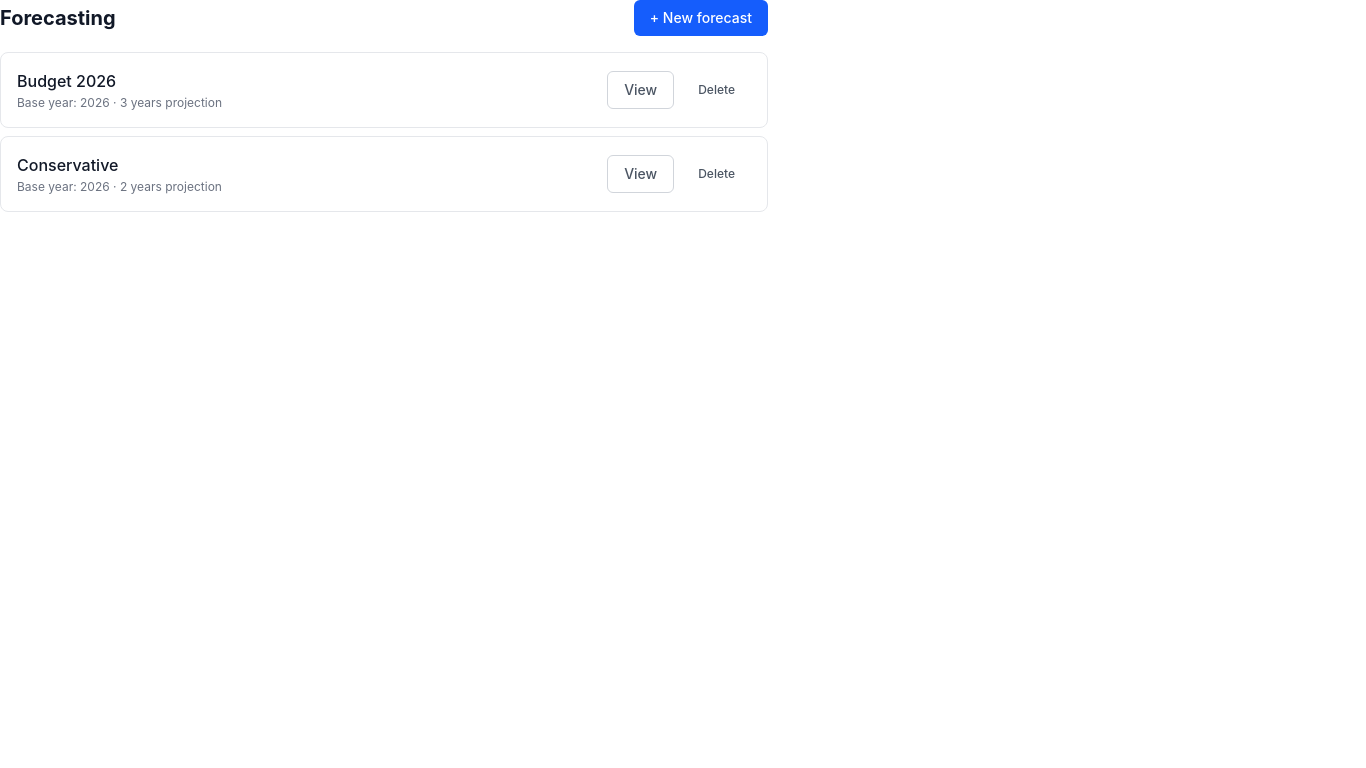
Scenario: ForecastingPage opens create modal when New forecast button clicked
Step 1. Click the button "+ New forecast" → (701, 18), box [634,0,768,36]
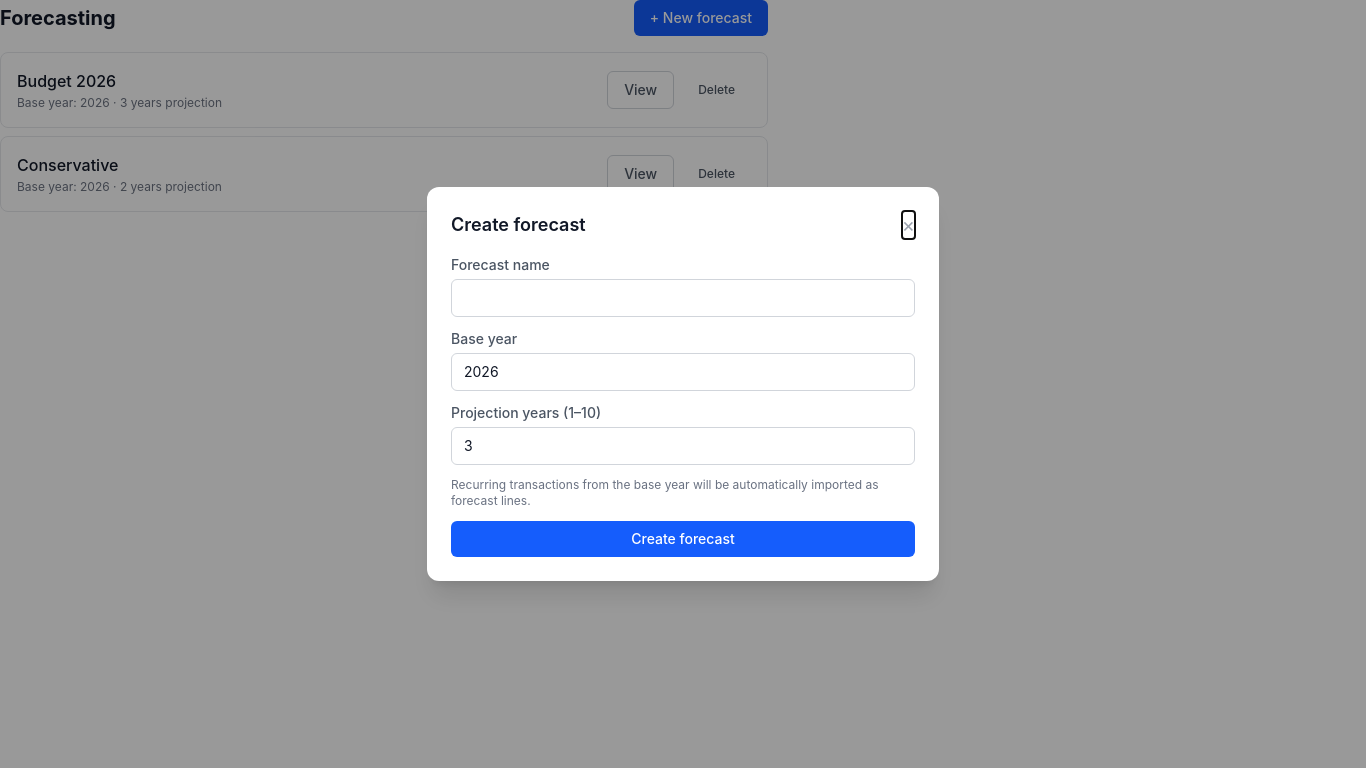
Now the dialog is shown, box [427,187,939,581]
Now the heading "Create forecast" is shown, box [451,211,586,239]
